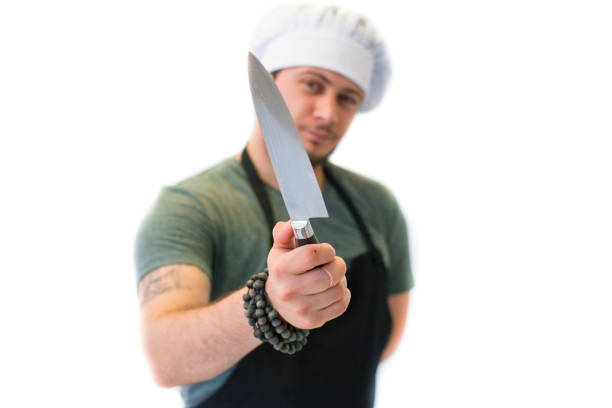knife: (245, 48, 332, 246)
